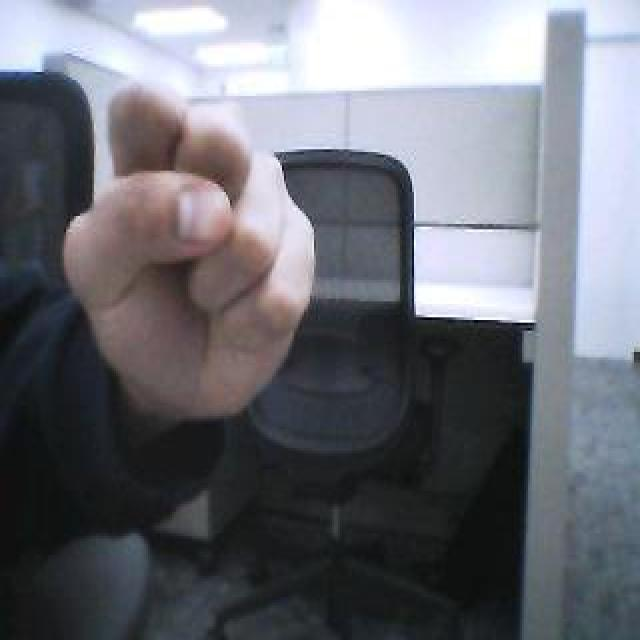fist: (59, 80, 313, 427)
